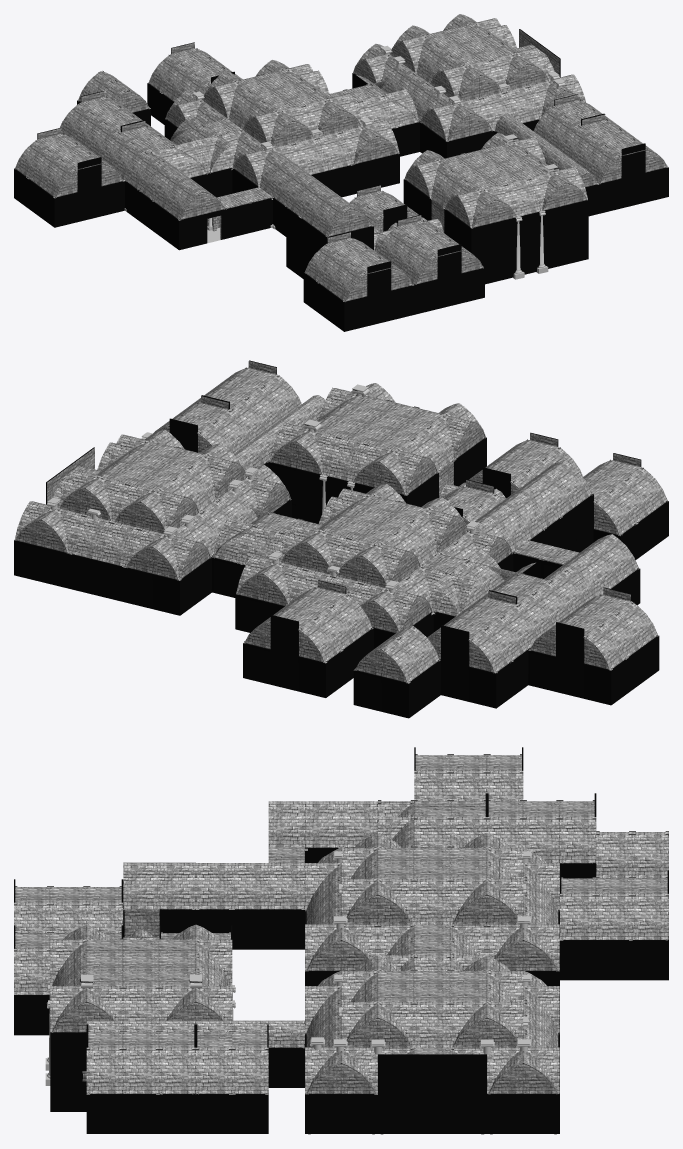
Rendered from wholepalace.fbx.
The picture shows the model from 3 angles, top to bottom: view 1: azimuth 30°, elevation 25°; view 2: azimuth 150°, elevation 25°; view 3: azimuth 270°, elevation 25°; orthographic projection. The views are drawn at different scales.
Parts seen in each view (by area): view 1: fi_vil_combs_vault_corner01, fi_vil_combs_vault_corner01_10, fi_vil_combs_vault_corner01_6, fi_vil_combs_vault_corner01_18, fi_vil_combs_vault_large01_end_single, fi_vil_combs_vault_large01_end_single_2, fi_vil_combs_vault_corner01_17, fi_vil_combs_vault_corner01_12, fi_vil_combs_vault_corner01_7, fi_vil_combs_vault_corner01_19, fi_vil_combs_vault_small03_a_2, fi_vil_combs_vault_corner01_1 (+83 smaller); view 2: fi_vil_combs_vault_corner01_5, fi_vil_combs_vault_corner01_4, fi_vil_combs_vault_corner01_11, fi_vil_combs_vault_corner01_14, fi_vil_combs_vault_corner01_3, fi_vil_combs_vault_corner01_15, fi_vil_combs_vault_corner01_9, fi_vil_combs_vault_small03_a_3, fi_vil_combs_vault_corner01_2, fi_vil_combs_vault_corner01_8, fi_vil_combs_vault_corner01_16, fi_vil_combs_vault_small03_d (+82 smaller); view 3: fi_vil_combs_vault_corner01_7, fi_vil_combs_vault_corner01_2, fi_vil_combs_vault_corner01_9, fi_vil_combs_vault_large01_end_single, fi_vil_combs_vault_corner01_13, fi_vil_combs_vault_small03_b_2, fi_vil_combs_vault_corner01_19, fi_vil_combs_vault_corner01_8, fi_vil_combs_vault_large01_end_single_2, fi_vil_combs_vault_small03_b_4, fi_vil_combs_vault_large01_end_single_1, fi_vil_combs_vault_small03_d_1 (+111 smaller).
Part boxes in pixels (box(x1,y1,x2,y2)): fi_vil_combs_vault_corner01: box(445, 180, 517, 228); fi_vil_combs_vault_corner01_10: box(420, 93, 493, 141); fi_vil_combs_vault_corner01_6: box(243, 101, 314, 147); fi_vil_combs_vault_corner01_18: box(431, 55, 501, 101); fi_vil_combs_vault_large01_end_single: box(300, 188, 373, 237); fi_vil_combs_vault_large01_end_single_2: box(152, 172, 224, 220); fi_vil_combs_vault_corner01_17: box(528, 162, 587, 210); fi_vil_combs_vault_corner01_12: box(340, 120, 399, 164); fi_vil_combs_vault_corner01_7: box(303, 89, 362, 136); fi_vil_combs_vault_corner01_19: box(490, 43, 549, 90); fi_vil_combs_vault_small03_a_2: box(293, 132, 352, 174); fi_vil_combs_vault_corner01_1: box(232, 139, 304, 187); fi_vil_combs_vault_corner01_5: box(125, 523, 211, 580); fi_vil_combs_vault_corner01_4: box(352, 438, 438, 495); fi_vil_combs_vault_corner01_11: box(336, 532, 420, 587); fi_vil_combs_vault_corner01_14: box(114, 478, 198, 533); fi_vil_combs_vault_corner01_3: box(353, 577, 432, 632); fi_vil_combs_vault_corner01_15: box(269, 417, 339, 475); fi_vil_combs_vault_corner01_9: box(14, 501, 84, 553); fi_vil_combs_vault_small03_a_3: box(70, 514, 140, 567); fi_vil_combs_vault_corner01_2: box(280, 518, 349, 574); fi_vil_combs_vault_corner01_8: box(58, 464, 128, 521); fi_vil_combs_vault_corner01_16: box(236, 555, 306, 605); fi_vil_combs_vault_small03_d: box(381, 626, 440, 683); fi_vil_combs_vault_corner01_7: box(341, 863, 414, 924); fi_vil_combs_vault_corner01_2: box(450, 863, 523, 924); fi_vil_combs_vault_corner01_9: box(487, 1032, 559, 1094); fi_vil_combs_vault_large01_end_single: box(123, 862, 195, 909); fi_vil_combs_vault_corner01_13: box(305, 1032, 377, 1094); fi_vil_combs_vault_small03_b_2: box(86, 1047, 159, 1094); fi_vil_combs_vault_corner01_19: box(341, 986, 414, 1047); fi_vil_combs_vault_corner01_8: box(450, 987, 523, 1047); fi_vil_combs_vault_large01_end_single_2: box(268, 801, 341, 848); fi_vil_combs_vault_small03_b_4: box(560, 893, 632, 940); fi_vil_combs_vault_large01_end_single_1: box(232, 863, 304, 909); fi_vil_combs_vault_small03_d_1: box(596, 832, 668, 878).
Size of what is drawn, in the model's own units: 5250 by 1103 by 4500.
